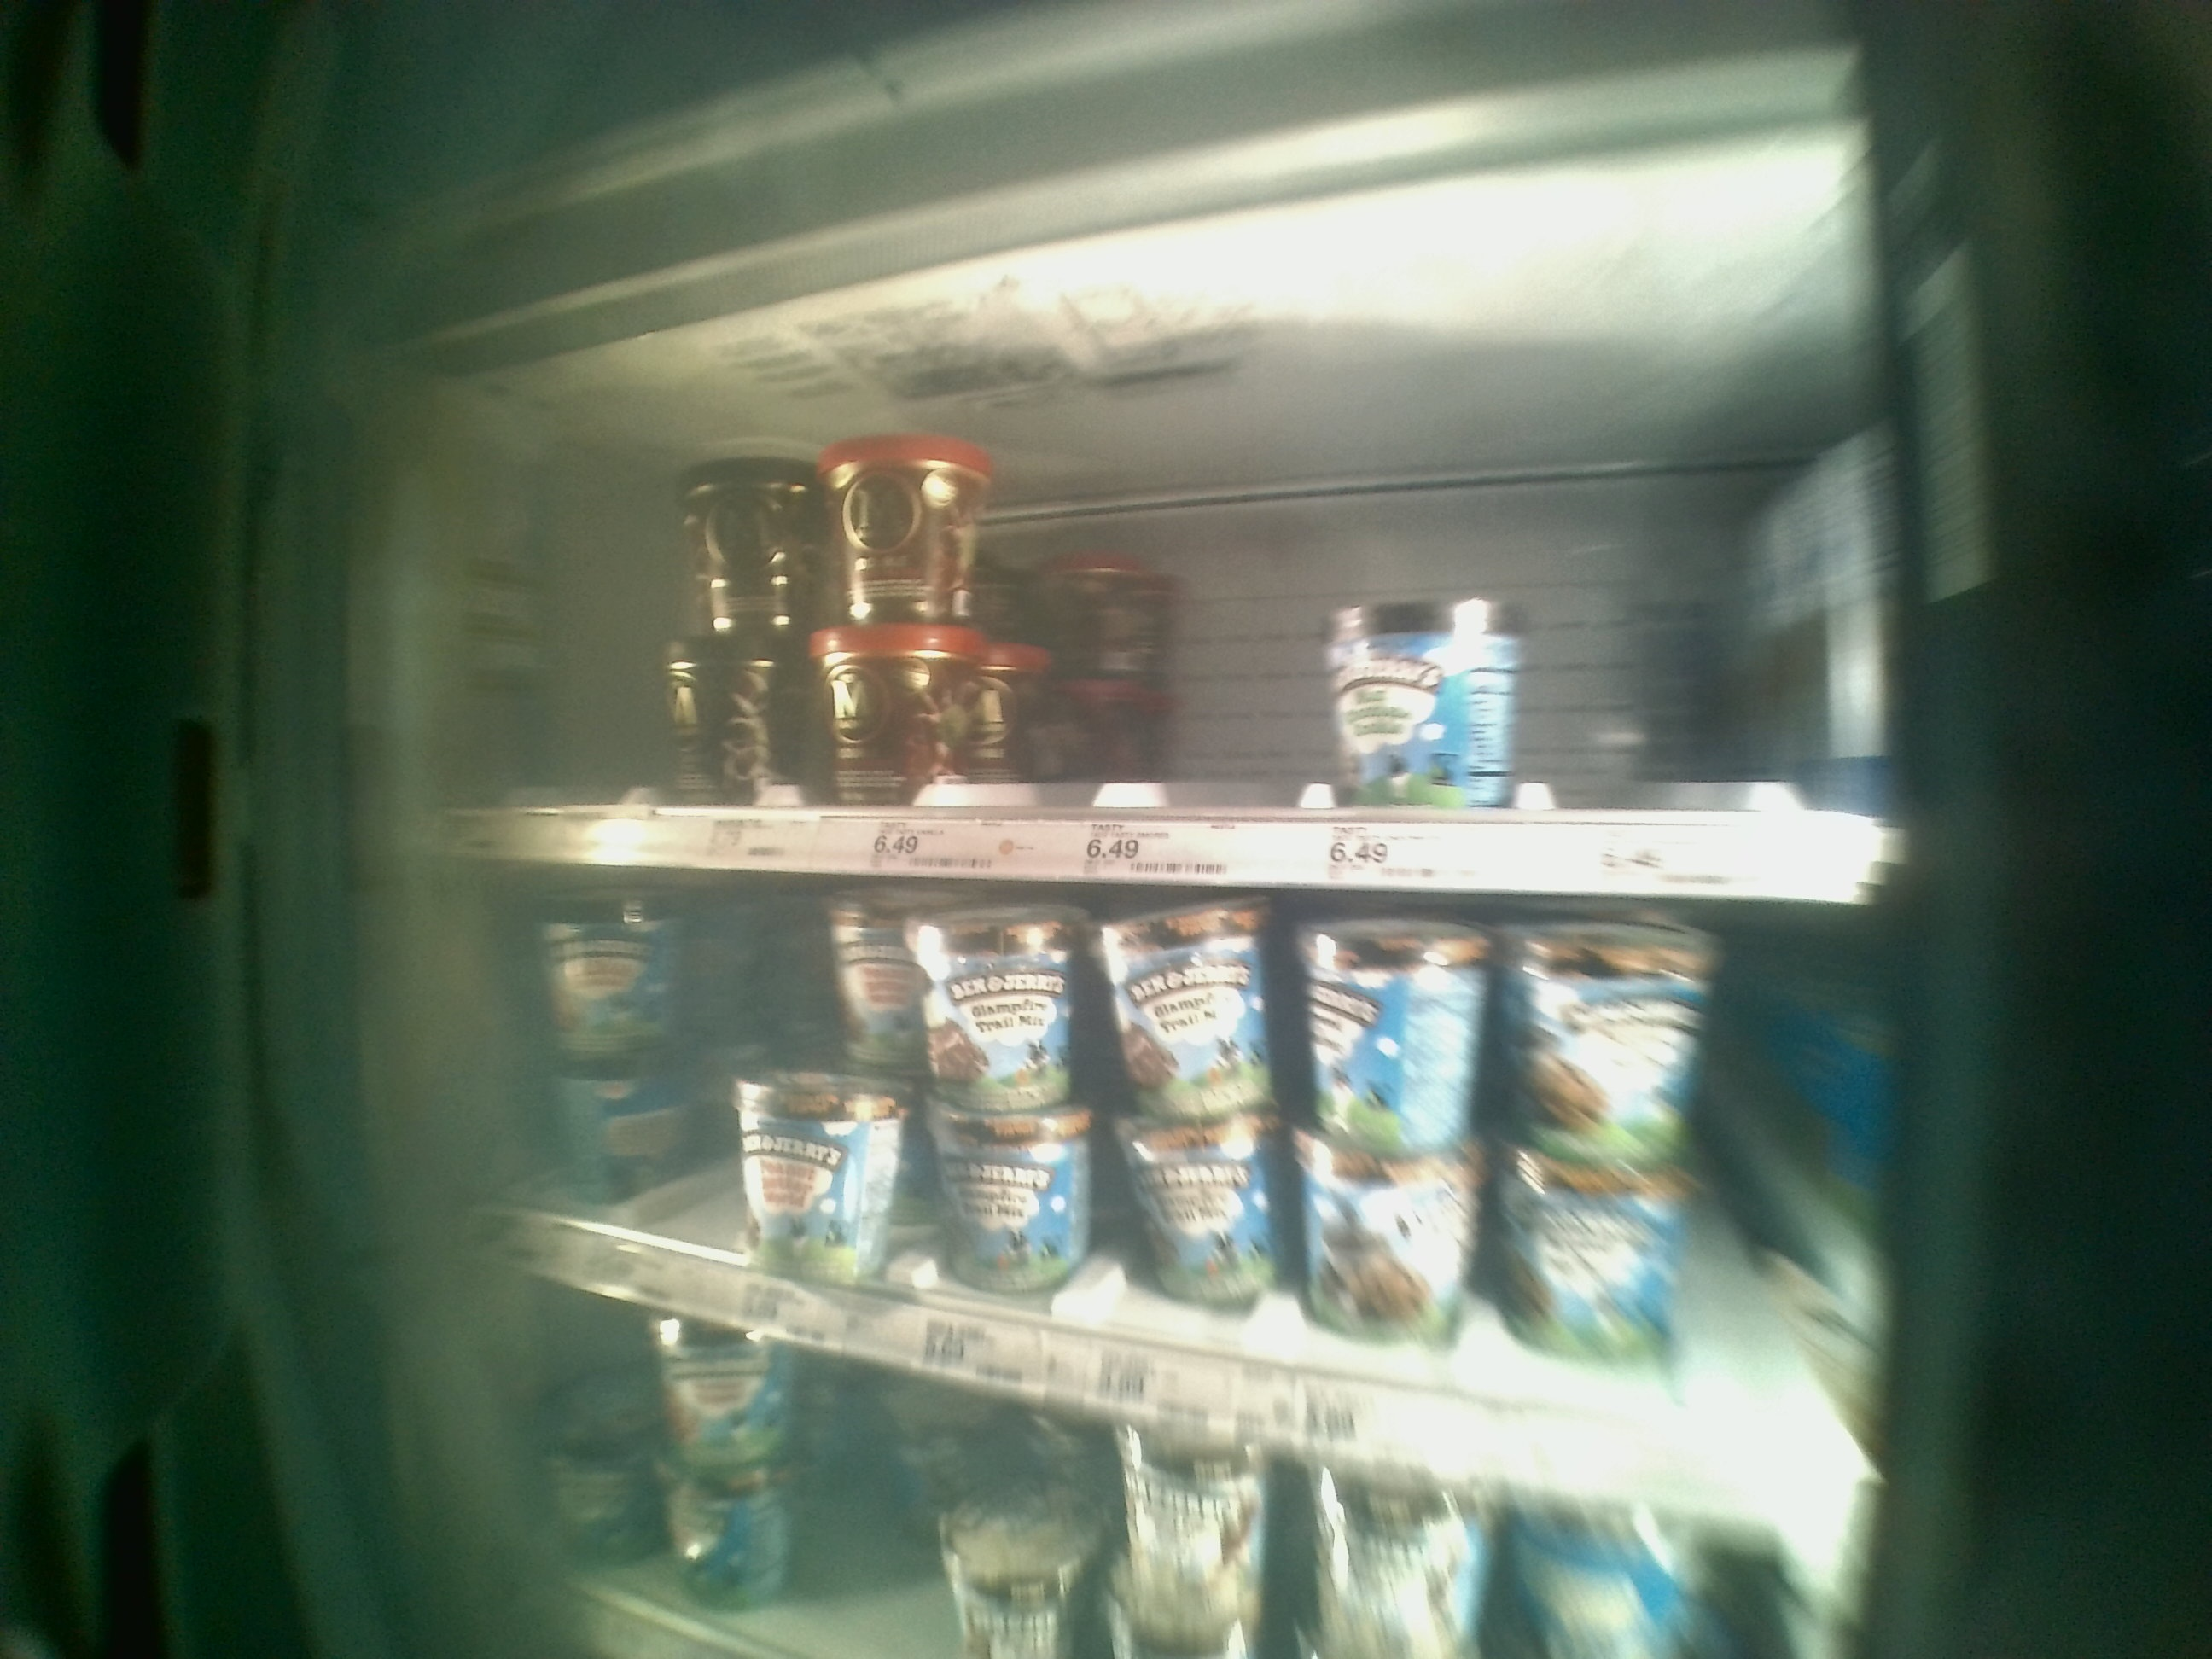shelf: (455, 863, 1895, 1504), (444, 301, 1911, 878)
